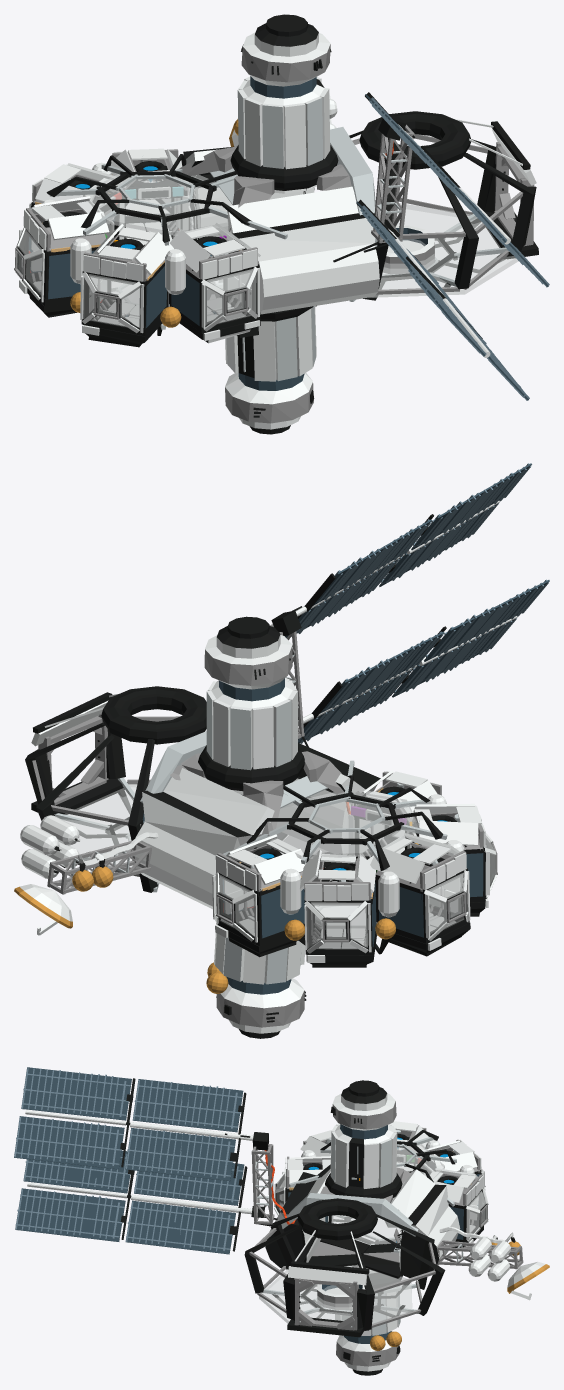
The model's file is station.glb.
The picture shows the model from 3 angles, top to bottom: view 1: azimuth 30°, elevation 25°; view 2: azimuth 150°, elevation 25°; view 3: azimuth 270°, elevation 25°; orthographic projection. The views are drawn at different scales.
Visible parts, largest first — view 1: group1426375924, group1172654828; view 2: group1426375924, group1172654828; view 3: group1426375924, group1172654828.
Boxes of the visible parts, x1=… form: group1426375924: x1=14, y1=14, x2=549, y2=434; group1172654828: x1=16, y1=174, x2=518, y2=327; group1426375924: x1=14, y1=463, x2=549, y2=1038; group1172654828: x1=61, y1=784, x2=495, y2=949; group1426375924: x1=14, y1=1067, x2=549, y2=1375; group1172654828: x1=259, y1=1141, x2=487, y2=1323.
Bounding box in the file's own units: 6.29 × 5.25 × 8.77.
2 materials, 2 textured.
